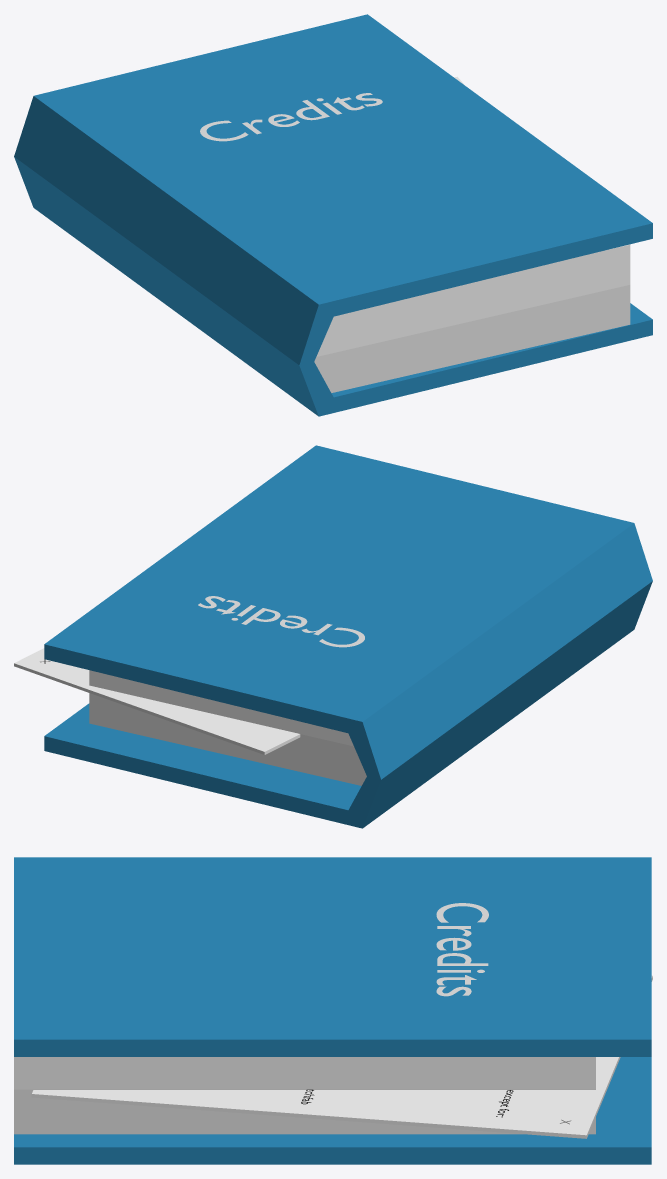
The picture shows the model from 3 angles, top to bottom: view 1: azimuth 30°, elevation 25°; view 2: azimuth 150°, elevation 25°; view 3: azimuth 270°, elevation 25°; orthographic projection. The views are drawn at different scales.
Visible parts, largest first — view 1: Cover, Book.004, Book.005, Credits; view 2: Cover, Book.004, Paper, Book.005, Credits; view 3: Cover, Book.005, Paper, Book.004, Credits.
Part boxes in pixels (x1=…): Cover: x1=14, y1=14, x2=652, y2=416; Book.004: x1=314, y1=285, x2=630, y2=392; Book.005: x1=316, y1=244, x2=630, y2=356; Credits: x1=200, y1=93, x2=382, y2=141; Cover: x1=44, y1=445, x2=652, y2=828; Book.004: x1=89, y1=693, x2=366, y2=785; Paper: x1=14, y1=648, x2=300, y2=754; Book.005: x1=89, y1=670, x2=353, y2=746; Credits: x1=198, y1=596, x2=364, y2=647; Cover: x1=14, y1=857, x2=651, y2=1164; Book.005: x1=14, y1=1057, x2=595, y2=1089; Paper: x1=31, y1=975, x2=652, y2=1138; Book.004: x1=14, y1=1089, x2=595, y2=1134; Credits: x1=436, y1=903, x2=488, y2=996.
Size of the model in its own units: 0.4324 by 0.1122 by 0.5166.
4 materials, 1 textured.
